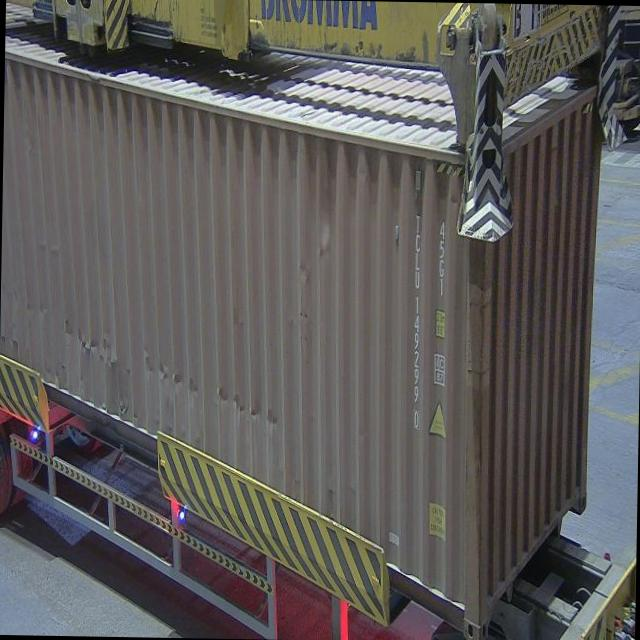Deframe_or_Dent: (290, 147, 350, 276), (210, 368, 280, 442), (52, 297, 121, 371), (141, 329, 200, 408)
